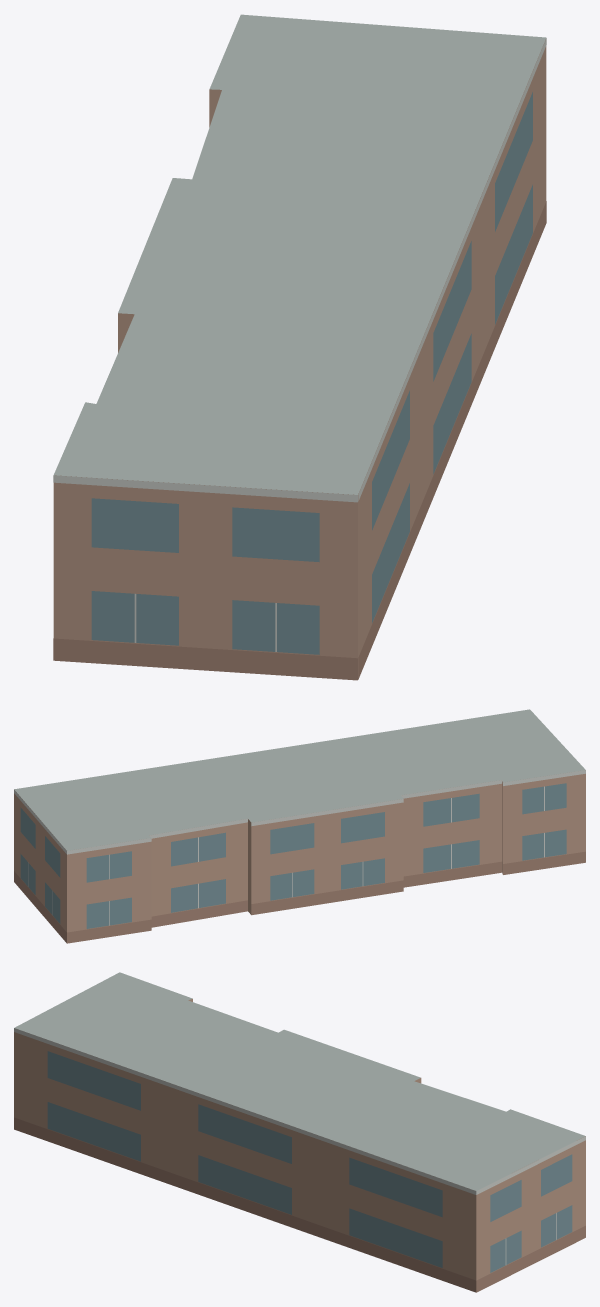
The model's file is survey-upis-32765350.glb.
3 renders of one model, top to bottom at view 1: azimuth 30°, elevation 25°; view 2: azimuth 150°, elevation 25°; view 3: azimuth 270°, elevation 25°, orthographic. The views are drawn at different scales.
Visible parts, largest first — view 1: survey-upis-32765350.tmp; view 2: survey-upis-32765350.tmp; view 3: survey-upis-32765350.tmp.
Boxes of the visible parts, bbox=[...] form: survey-upis-32765350.tmp: bbox=[53, 14, 546, 680]; survey-upis-32765350.tmp: bbox=[14, 709, 585, 943]; survey-upis-32765350.tmp: bbox=[14, 972, 585, 1292].
Bounding box in the file's own units: 28.19 × 6.1 × 31.13.
